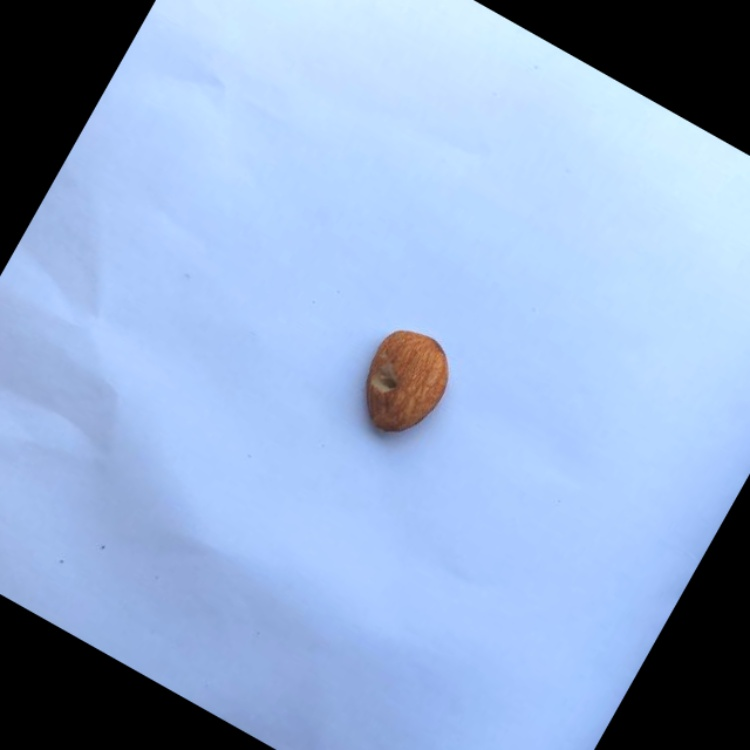grade3: (336, 311, 469, 454)
